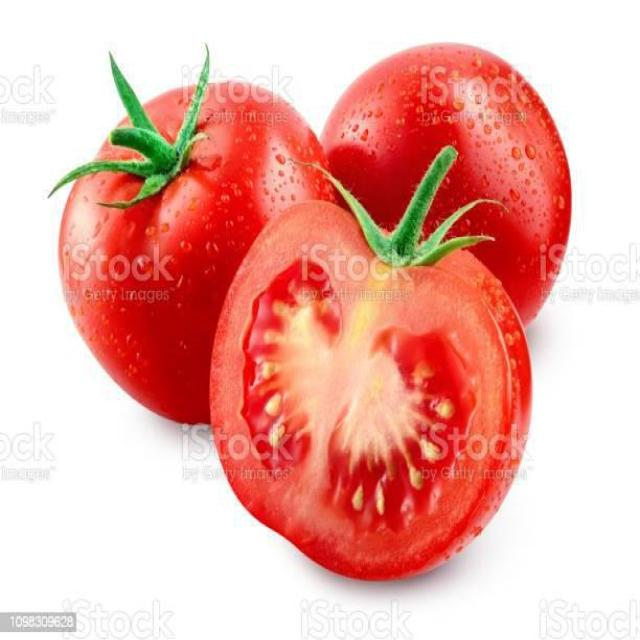Tomato: (210, 210, 530, 599), (60, 83, 319, 425), (323, 44, 577, 294)
